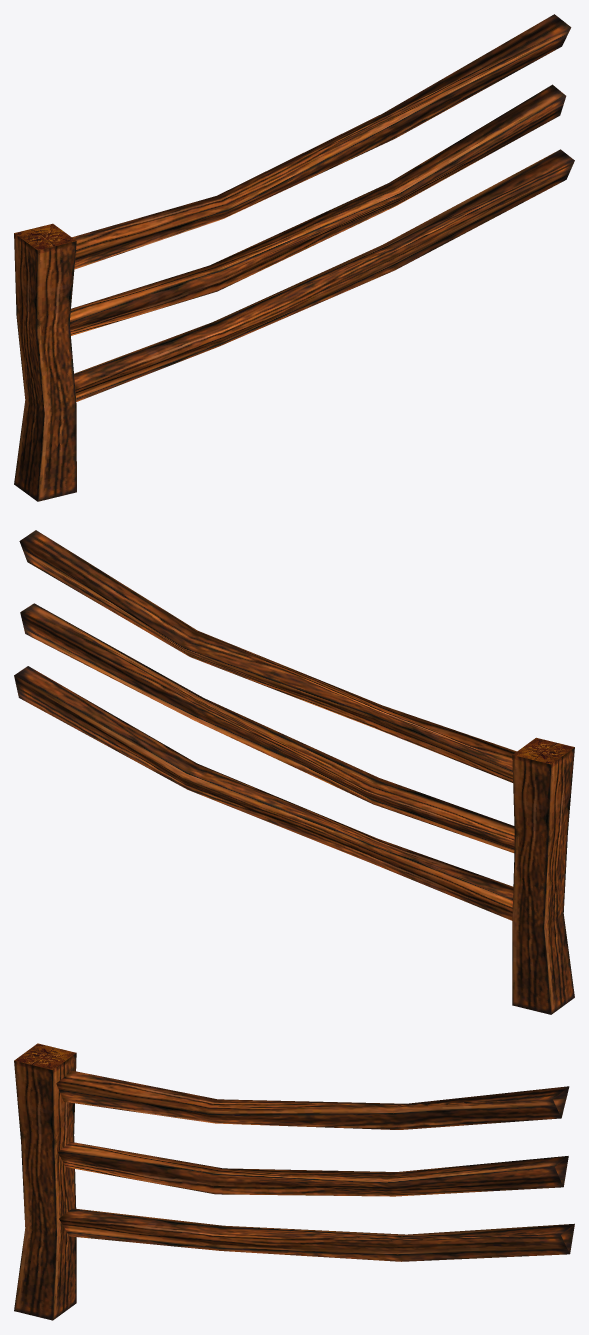
The model's file is INST_HTOWN_FENCEBRN10DEG.fbx.
The picture shows the model from 3 angles, top to bottom: view 1: azimuth 30°, elevation 25°; view 2: azimuth 150°, elevation 25°; view 3: azimuth 330°, elevation 25°; orthographic projection.
Visible parts, largest first — view 1: INST_HTOWN_FENCEBRN10DEG; view 2: INST_HTOWN_FENCEBRN10DEG; view 3: INST_HTOWN_FENCEBRN10DEG.
Part boxes in pixels (<box>): INST_HTOWN_FENCEBRN10DEG: <box>14,14,574,501</box>; INST_HTOWN_FENCEBRN10DEG: <box>14,530,574,1014</box>; INST_HTOWN_FENCEBRN10DEG: <box>14,1043,574,1320</box>.
Size of the model in its own units: 30236 by 18175 by 2372.
2 materials, 2 textured.
